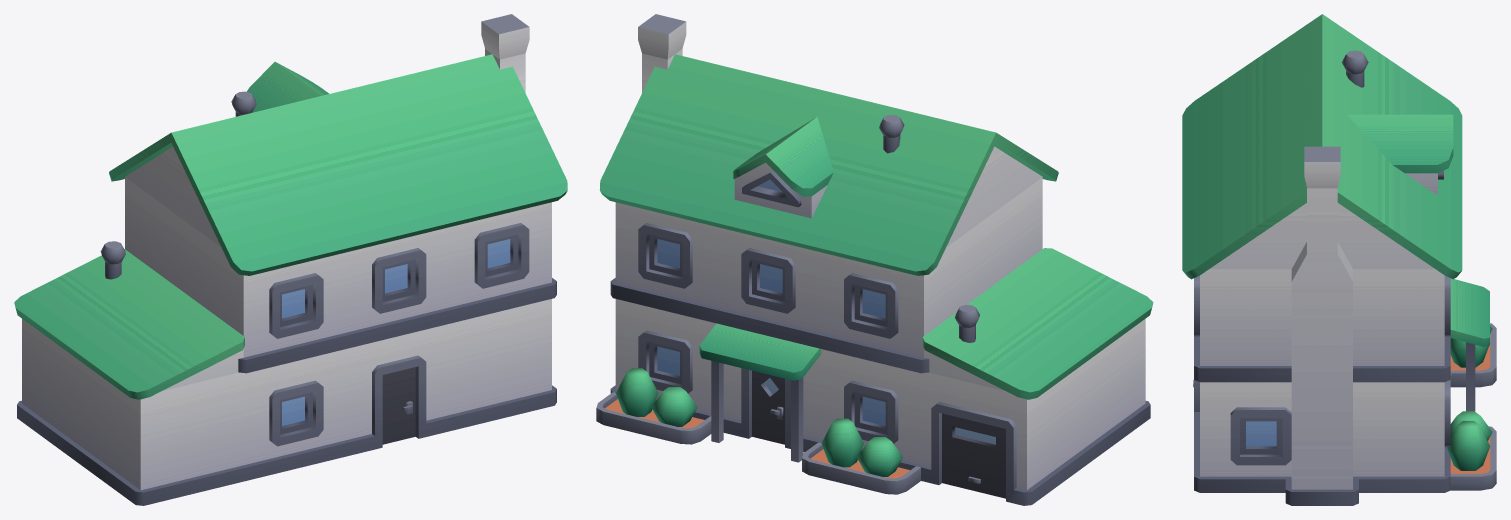
File: building-type-d.glb
3 renders of one model, left to right at view 1: azimuth 30°, elevation 25°; view 2: azimuth 150°, elevation 25°; view 3: azimuth 270°, elevation 25°, orthographic. The views are drawn at different scales.
Parts seen in each view (by area): view 1: building-type-d; view 2: building-type-d; view 3: building-type-d.
Boxes of the visible parts, x1,y1,x2,y2 form: building-type-d: [14, 14, 567, 505]; building-type-d: [596, 14, 1153, 505]; building-type-d: [1182, 14, 1496, 505].
Size of the model in its own units: 1.76 by 1.24 by 1.03.
1 material, 1 textured.
